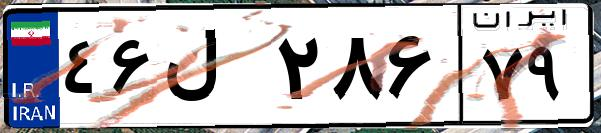2: (270, 28, 330, 110)
4: (57, 26, 110, 100)
6: (385, 28, 445, 110), (110, 28, 158, 98)
7: (475, 38, 525, 113)
8: (330, 28, 385, 110)
9: (525, 38, 570, 115)
ل: (158, 20, 270, 120)
